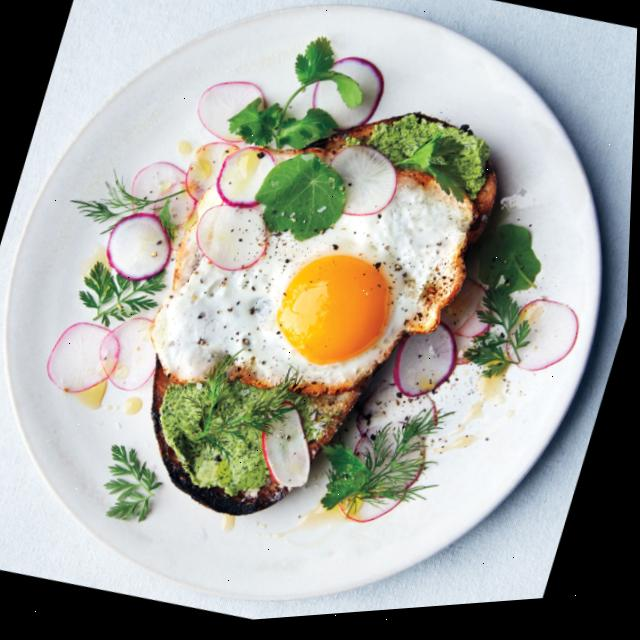Egg: (153, 176, 477, 397)
